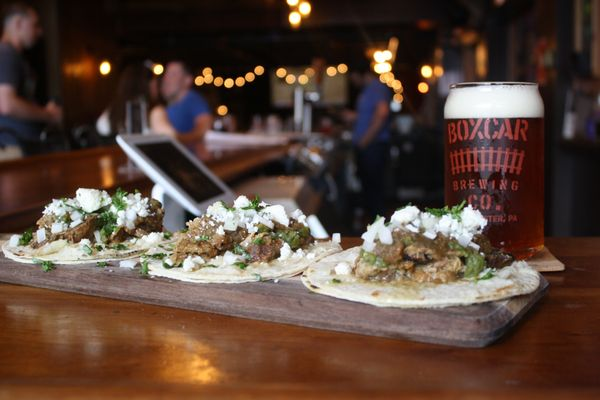pizza: (442, 80, 547, 258)
